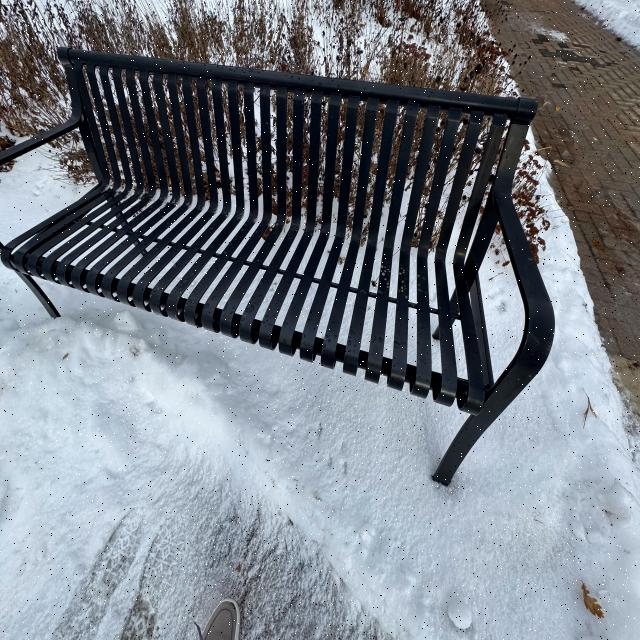Bench: (12, 40, 560, 432)
